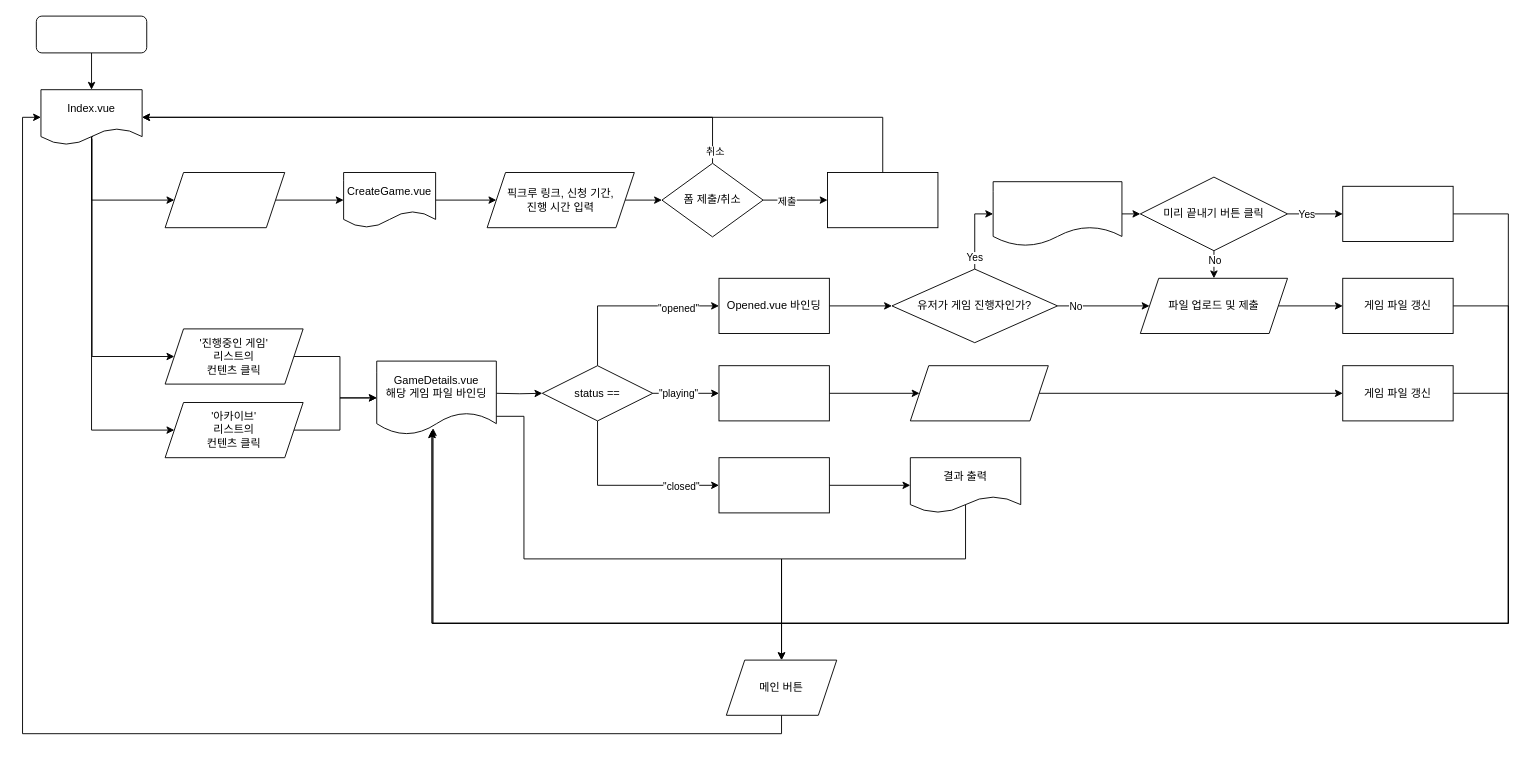
Some shapes in this 1532 by 757 pixel diagram are drawn without their labels. The shapes that lost their labels are listed below. From the top down, each one's centre as x and y in pixels, then its label:
the point at 91,34: 접속
the point at 224,200: 새 게임 생성 버튼 클릭
the point at 882,200: 게임 파일 생성
the point at 1057,213: "게임을 미리 끝낼까요?" 메시지 및 버튼
the point at 1397,213: status = "playing"
the point at 773,393: Playing.vue 바인딩
the point at 978,393: 답안 입력 및 제출
the point at 773,485: Closed.vue 바인딩
